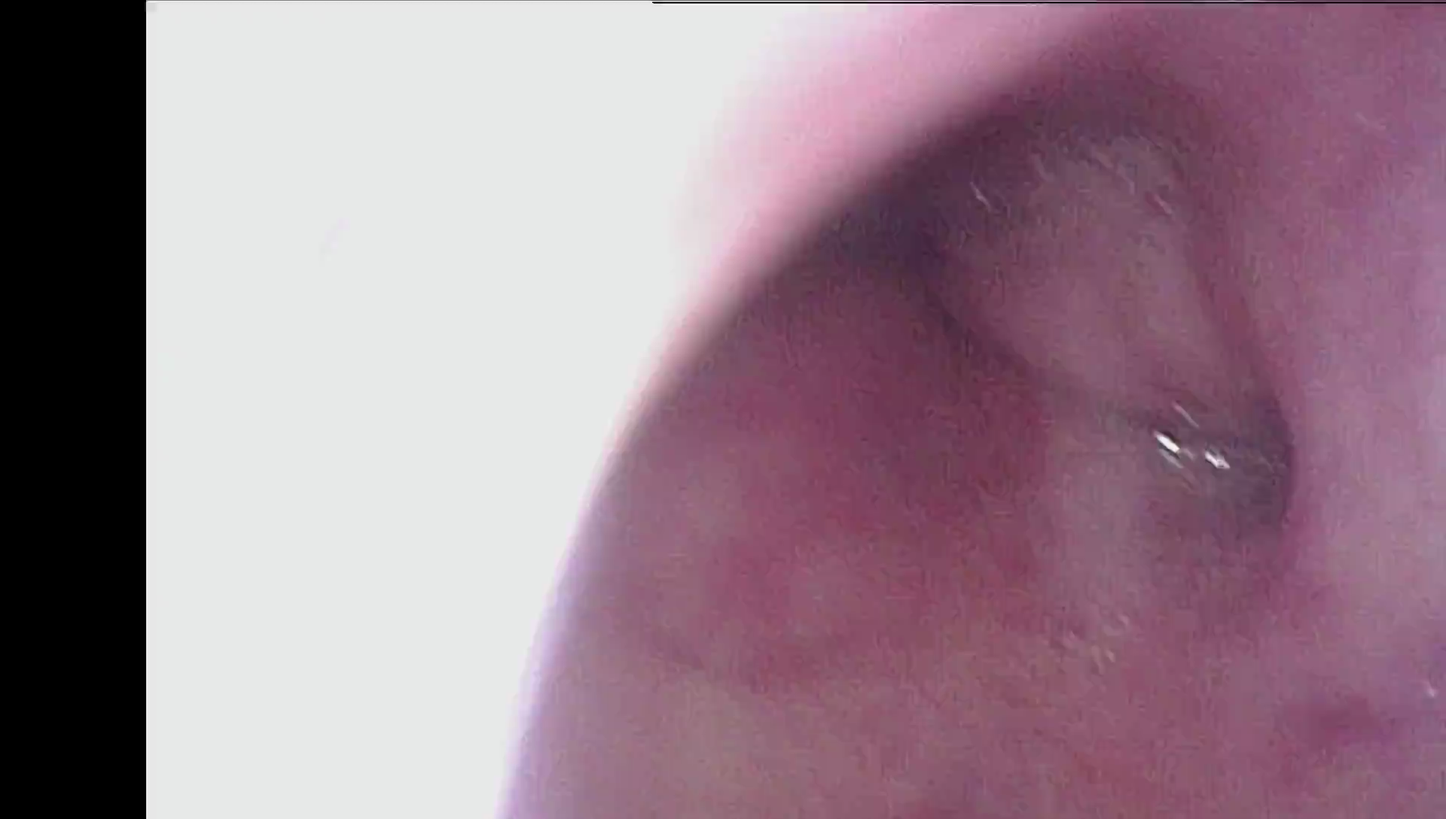close_wall: (154, 8, 1098, 819)
next: (815, 107, 974, 352)
